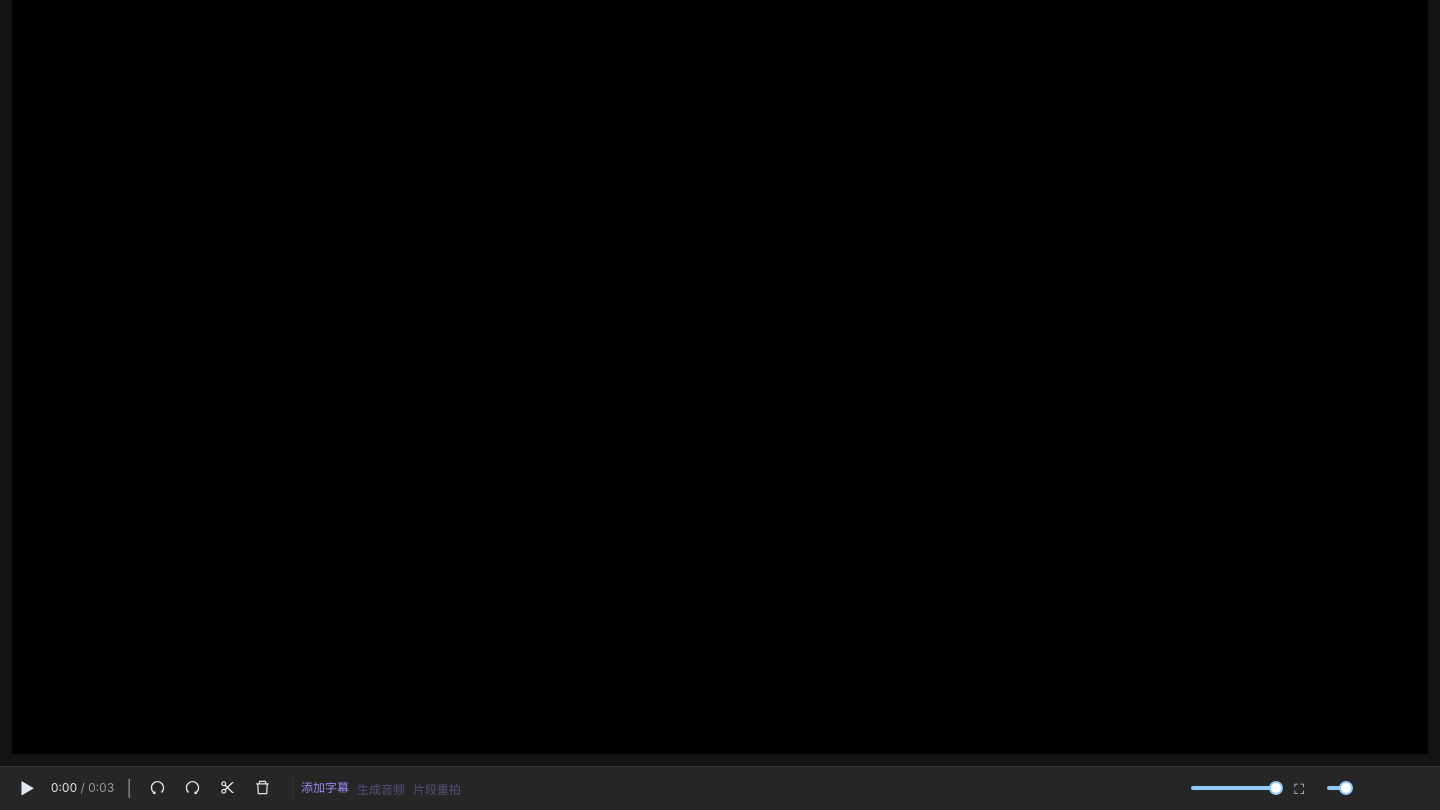
Test: PreviewPlayer（控制条） › 播放按钮 → togglePlayback；playing 态文案切换
(page scrolled)
Click the button with test id "preview-play-btn". click: coordinates (27, 788)
box: top-left (12, 776), bottom-right (43, 800)
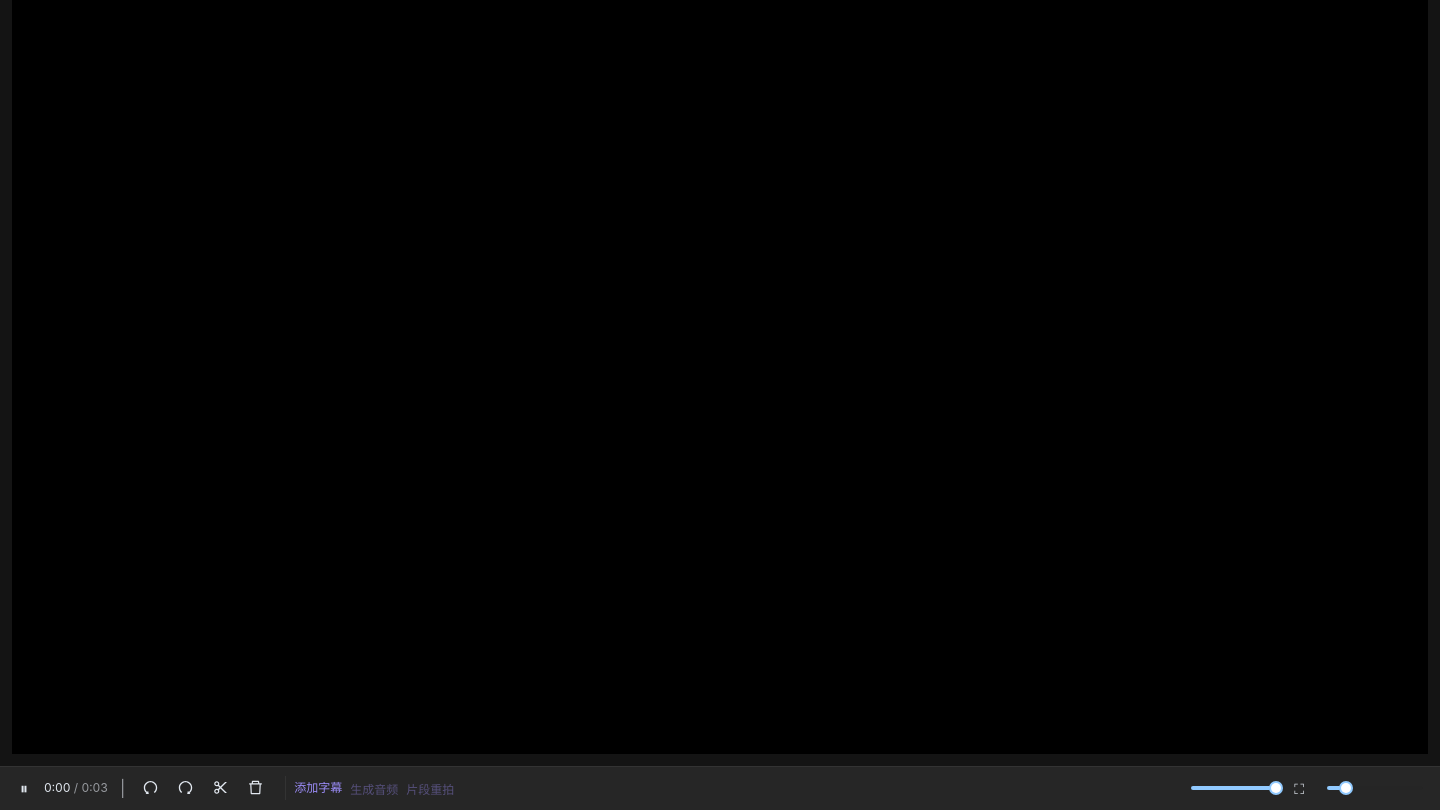
Expected: the button with test id "preview-play-btn" reads "⏸", top-left (12, 776), bottom-right (36, 800)
